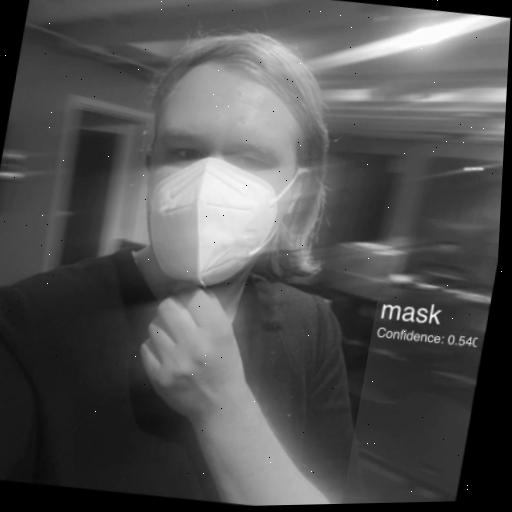mask: (113, 3, 362, 293)
